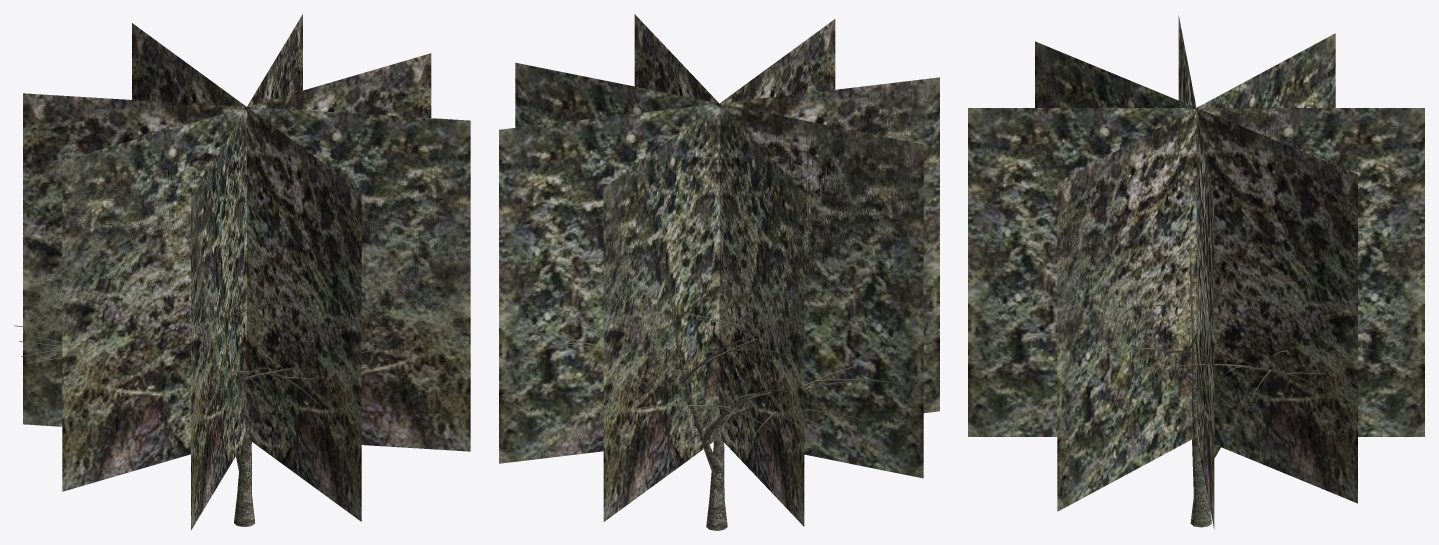
The picture shows the model from 3 angles, left to right: view 1: azimuth 30°, elevation 25°; view 2: azimuth 150°, elevation 25°; view 3: azimuth 270°, elevation 25°; orthographic projection.
Parts seen in each view (by area): view 1: 2_Cluster2, 1_Trunk; view 2: 2_Cluster2, 1_Trunk; view 3: 2_Cluster2, 1_Trunk.
Part boxes in pixels (bbox=[...]): 2_Cluster2: bbox=[23, 14, 470, 530]; 1_Trunk: bbox=[14, 275, 383, 526]; 2_Cluster2: bbox=[499, 14, 939, 526]; 1_Trunk: bbox=[530, 252, 896, 530]; 2_Cluster2: bbox=[968, 15, 1424, 529]; 1_Trunk: bbox=[1023, 227, 1383, 527].
Bounding box in the file's own units: 133 × 137 × 136.
Materials: 1 (1 with a texture image).
